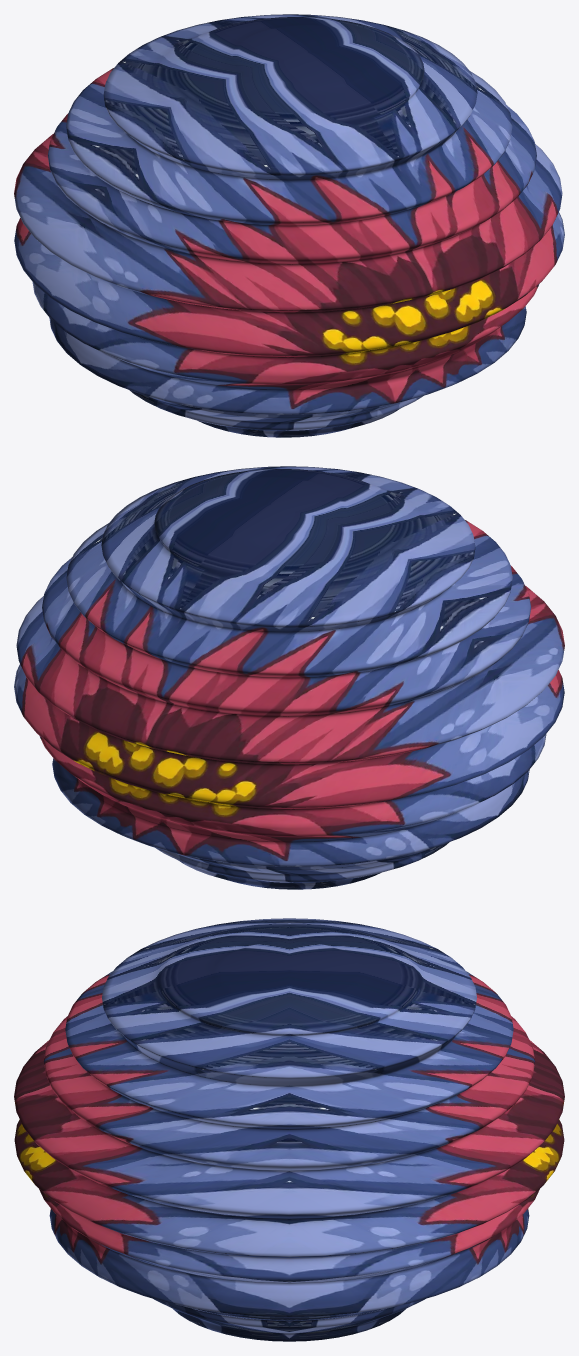
File: fountain_flower.glb
3 views of the same model, one above another, from view 1: azimuth 30°, elevation 25°; view 2: azimuth 150°, elevation 25°; view 3: azimuth 270°, elevation 25° (orthographic).
Visible parts, largest first — view 1: fountain_flower; view 2: fountain_flower; view 3: fountain_flower.
Part boxes in pixels (x1,y1,x2,y2): fountain_flower: (14,14,564,437); fountain_flower: (14,466,564,889); fountain_flower: (14,918,564,1341).
Bounding box in the file's own units: 0.9779 × 0.6932 × 0.9727.
1 material, 1 textured.
